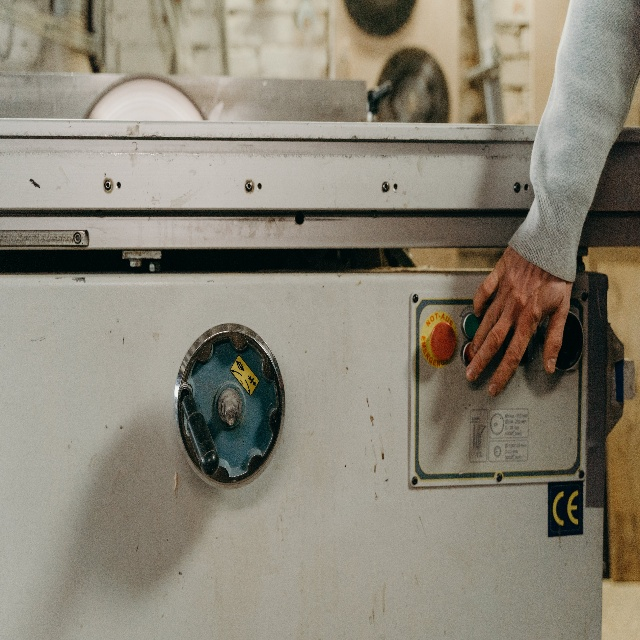Sin_guantes: (465, 247, 573, 397)
